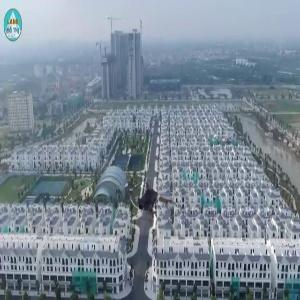drone: (116, 177, 180, 241)
